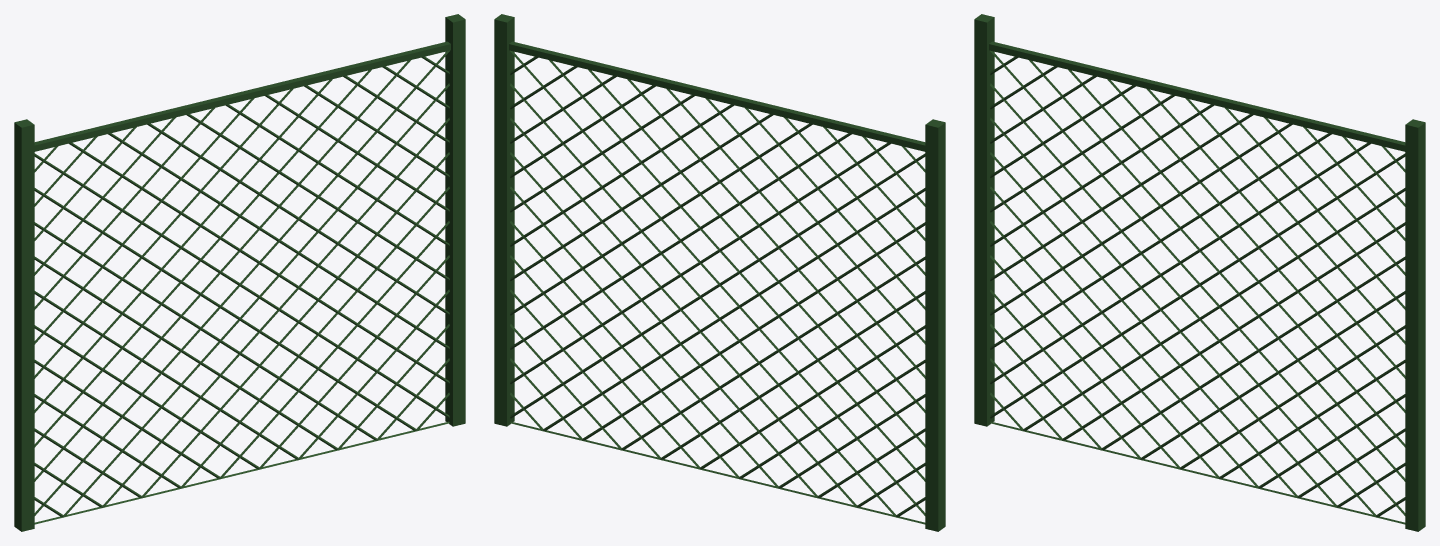
Rendered from IgralishteFence.glb.
3 views of the same model, side by side, from view 1: azimuth 30°, elevation 25°; view 2: azimuth 150°, elevation 25°; view 3: azimuth 330°, elevation 25° (orthographic).
Parts seen in each view (by area): view 1: Plane.001; view 2: Plane.001; view 3: Plane.001.
Part boxes in pixels (x1=…): Plane.001: x1=14, y1=14, x2=465, y2=531; Plane.001: x1=494, y1=14, x2=945, y2=531; Plane.001: x1=974, y1=14, x2=1425, y2=531.
Bounding box in the file's own units: 13.8 × 12 × 0.4.
